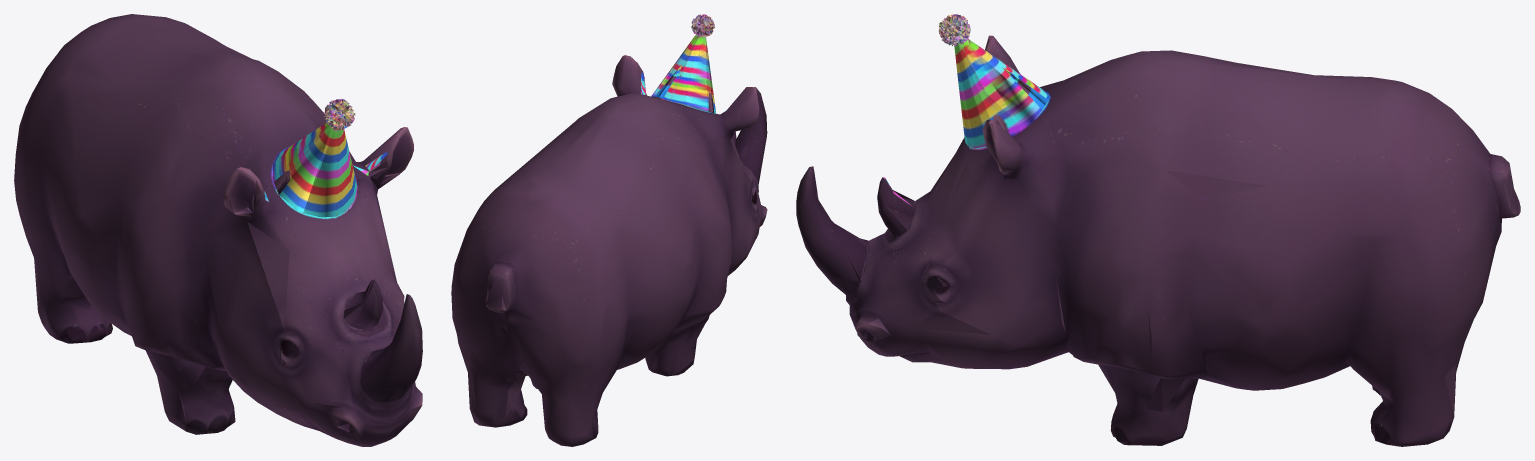
The model's file is Meshy_AI_rhino_purple_4_horns__0827204155_texture.fbx.
3 views of the same model, side by side, from view 1: azimuth 30°, elevation 25°; view 2: azimuth 150°, elevation 25°; view 3: azimuth 270°, elevation 25° (orthographic). The views are drawn at different scales.
Visible parts, largest first — view 1: output_unwrapped; view 2: output_unwrapped; view 3: output_unwrapped.
Boxes of the visible parts, x1,y1,x2,y2 form: output_unwrapped: (14, 14, 422, 446); output_unwrapped: (451, 14, 767, 446); output_unwrapped: (796, 14, 1520, 446).
Size of the model in its own units: 76.05 by 114 by 190.
Materials: 1 (1 with a texture image).
